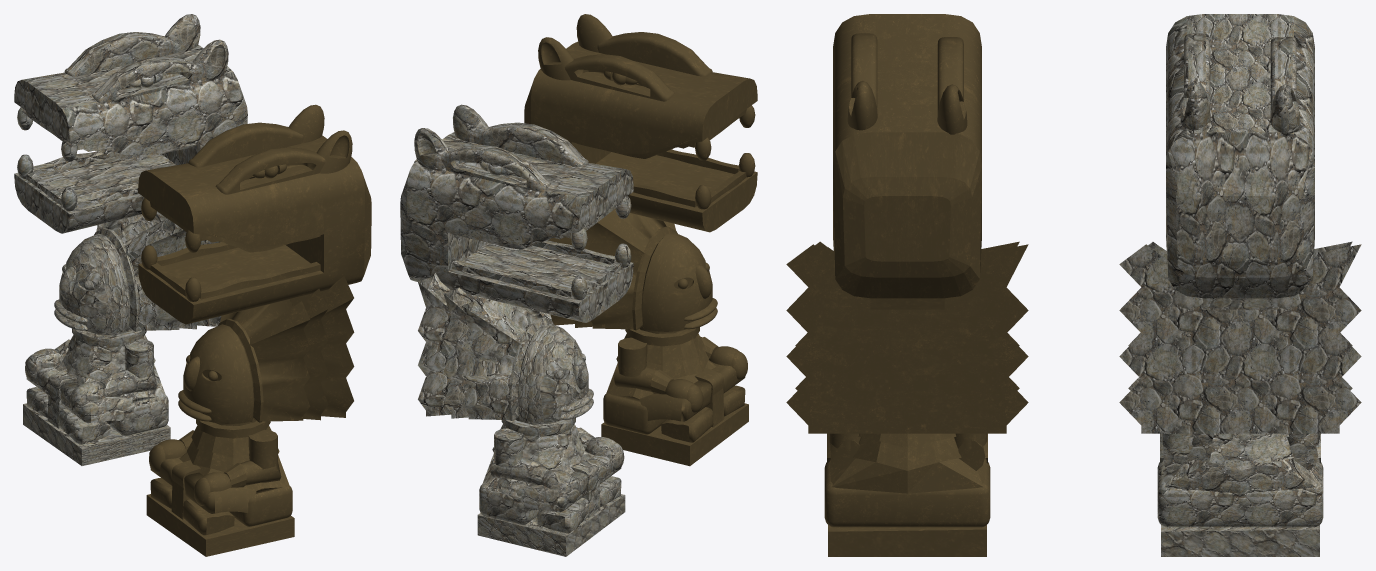
File: Maya_sculpture.FBX
3 renders of one model, left to right at view 1: azimuth 30°, elevation 25°; view 2: azimuth 150°, elevation 25°; view 3: azimuth 270°, elevation 25°, orthographic. The views are drawn at different scales.
Visible parts, largest first — view 1: Box001, Box019, Cylinder003, Cylinder002, Box010, GeoSphere002, GeoSphere001, Box020, Box018, Box021; view 2: Box019, Box001, Cylinder002, Cylinder003, Box020, GeoSphere001, GeoSphere002, Box010, Box021, Box018; view 3: Box001, Box019, Box010, Box020, Cylinder002, Cylinder003, Box018, Box021.
Part boxes in pixels (x1=…): Box001: x1=138, y1=104, x2=371, y2=324; Box019: x1=14, y1=14, x2=247, y2=233; Cylinder003: x1=25, y1=327, x2=168, y2=444; Cylinder002: x1=149, y1=418, x2=292, y2=535; Box010: x1=220, y1=276, x2=354, y2=421; GeoSphere002: x1=54, y1=228, x2=139, y2=333; GeoSphere001: x1=178, y1=318, x2=263, y2=423; Box020: x1=96, y1=211, x2=221, y2=330; Box018: x1=146, y1=494, x2=294, y2=556; Box021: x1=23, y1=403, x2=170, y2=465; Box019: x1=400, y1=104, x2=633, y2=322; Box001: x1=524, y1=14, x2=757, y2=232; Cylinder002: x1=603, y1=326, x2=747, y2=442; Cylinder003: x1=479, y1=417, x2=624, y2=533; Box020: x1=418, y1=273, x2=551, y2=419; GeoSphere001: x1=632, y1=226, x2=717, y2=331; GeoSphere002: x1=508, y1=317, x2=593, y2=422; Box010: x1=548, y1=209, x2=675, y2=329; Box021: x1=477, y1=494, x2=625, y2=556; Box018: x1=601, y1=403, x2=748, y2=466; Box001: x1=833, y1=14, x2=981, y2=309; Box019: x1=1166, y1=14, x2=1314, y2=309; Box010: x1=786, y1=241, x2=1028, y2=433; Box020: x1=1119, y1=241, x2=1361, y2=433; Cylinder002: x1=824, y1=433, x2=990, y2=527; Cylinder003: x1=1157, y1=433, x2=1323, y2=527; Box018: x1=828, y1=525, x2=986, y2=556; Box021: x1=1161, y1=525, x2=1319, y2=556.
Size of the model in its own units: 7.79 by 15.17 by 15.42.
